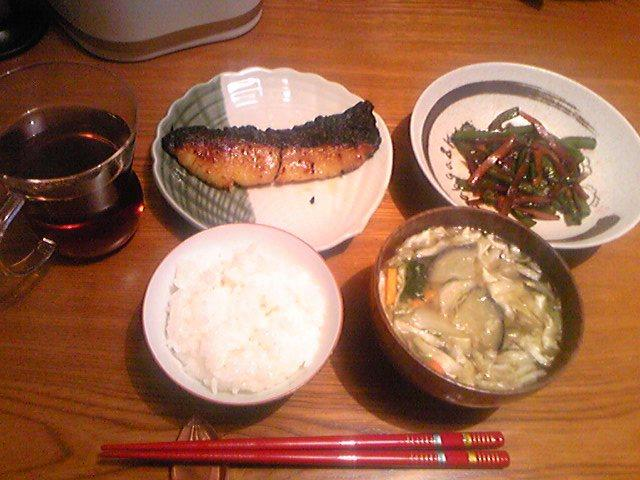plate: (151, 67, 392, 251), (409, 62, 639, 250)
